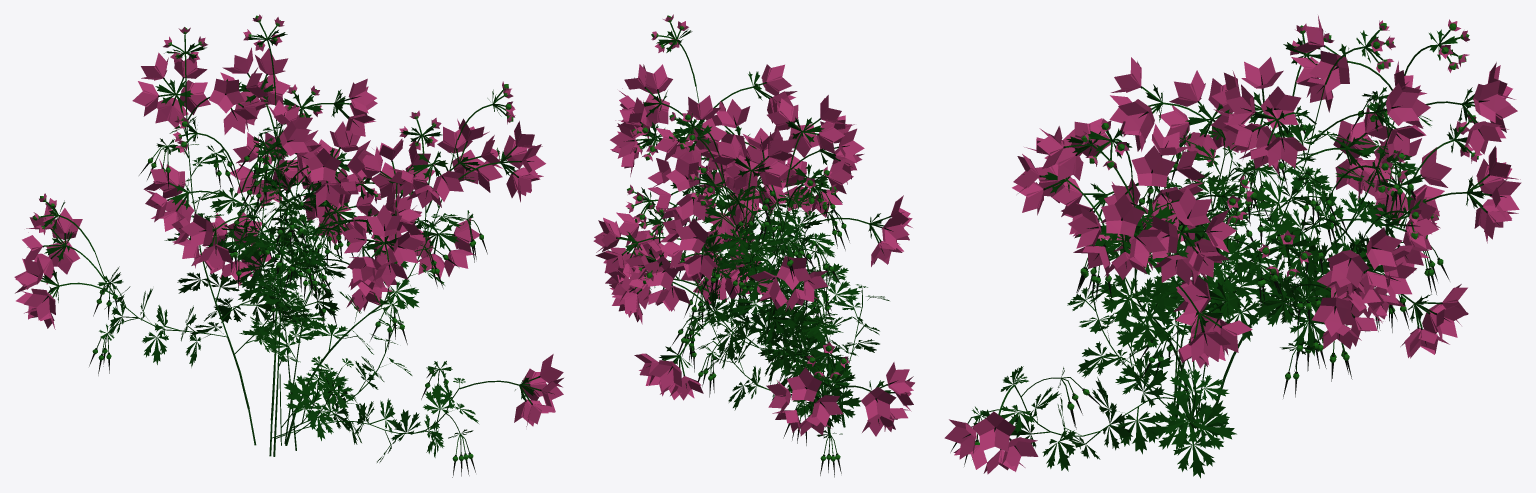
The picture shows the model from 3 angles, left to right: view 1: azimuth 30°, elevation 25°; view 2: azimuth 150°, elevation 25°; view 3: azimuth 270°, elevation 25°; orthographic projection. The views are drawn at different scales.
Visible parts, largest first — view 1: flowers, leaves1, stems, stems3, leaves3, stems2, leaves2, ends1, blossoms, buds1, leaves4, stems4 (+1 smaller); view 2: flowers, leaves1, stems3, leaves3, blossoms, stems2, stems, ends1, leaves4, buds1, stems4, buds3 (+2 smaller); view 3: flowers, leaves1, stems3, leaves3, blossoms, stems, stems2, ends1, buds1, leaves4, stems4, leaves2 (+2 smaller).
Part boxes in pixels (box(x1,y1,x2,y2)): flowers: box(14, 47, 563, 426); leaves1: box(102, 116, 478, 462); stems: box(94, 88, 459, 456); stems3: box(40, 74, 539, 403); leaves3: box(43, 77, 534, 400); stems2: box(96, 142, 480, 454); leaves2: box(97, 132, 473, 438); ends1: box(89, 155, 487, 477); blossoms: box(32, 14, 515, 234); buds1: box(92, 156, 483, 461); leaves4: box(43, 30, 501, 231); stems4: box(40, 22, 507, 251); flowers: box(593, 64, 914, 436); leaves1: box(672, 119, 889, 428); stems3: box(617, 82, 893, 412); leaves3: box(625, 71, 890, 404); blossoms: box(625, 14, 849, 378); stems2: box(682, 155, 842, 454); stems: box(695, 86, 862, 438); ends1: box(672, 167, 849, 477); leaves4: box(641, 29, 842, 368); buds1: box(678, 167, 846, 461); stems4: box(634, 23, 840, 370); buds3: box(627, 15, 846, 378); flowers: box(944, 15, 1521, 474); leaves1: box(1000, 102, 1431, 478); stems3: box(998, 46, 1489, 438); leaves3: box(971, 44, 1484, 435); blossoms: box(1080, 19, 1482, 277); stems: box(1015, 84, 1408, 436); stems2: box(967, 91, 1438, 440); ends1: box(950, 95, 1449, 466); buds1: box(975, 94, 1443, 444); leaves4: box(1088, 29, 1467, 261); stems4: box(1090, 30, 1471, 267); leaves2: box(972, 87, 1420, 421).
Bounding box in the file's own units: 86.96 × 74.85 × 88.42.
